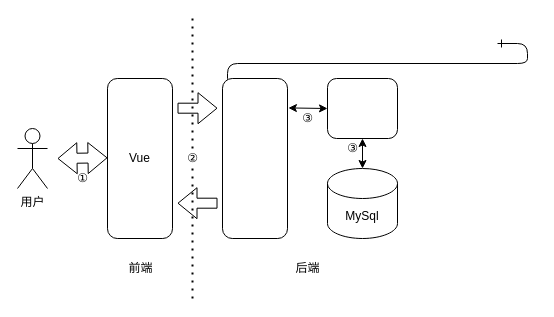
The diagram is 554 pixels wide and 317 high, and some of its shapes have lost their labels. The centre of each missing label's shape, as x and y in pixels:
"Mybatis" goes at [362,108].
"SpringBoot" goes at [255,158].
